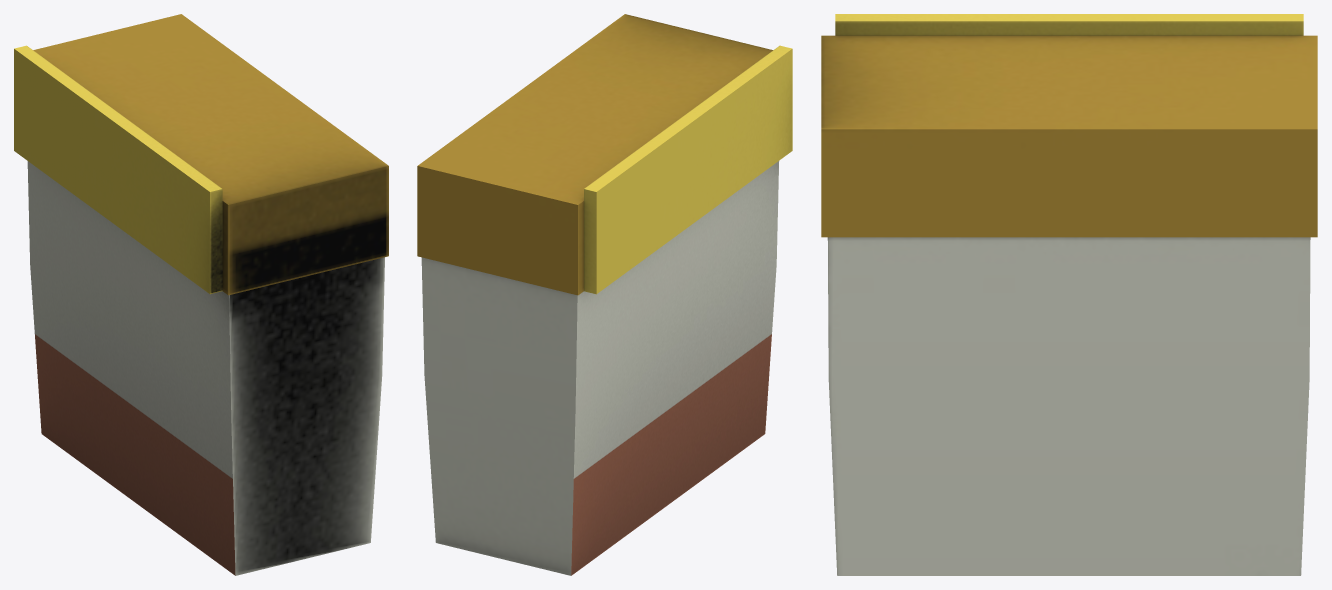
Rendered from FS_YellowStore.fbx.
The picture shows the model from 3 angles, left to right: view 1: azimuth 30°, elevation 25°; view 2: azimuth 150°, elevation 25°; view 3: azimuth 270°, elevation 25°; orthographic projection. The views are drawn at different scales.
Parts seen in each view (by area): view 1: shop8, roof8, sign9; view 2: shop8, roof8, sign9; view 3: shop8, roof8, sign9.
Boxes of the visible parts, <box> form: shop8: <box>27,161,384,575</box>; roof8: <box>33,14,388,295</box>; sign9: <box>14,45,222,294</box>; shop8: <box>421,161,779,575</box>; roof8: <box>417,14,772,295</box>; sign9: <box>584,45,792,294</box>; shop8: <box>827,237,1310,575</box>; roof8: <box>821,35,1317,237</box>; sign9: <box>835,14,1303,35</box>.
Size of the model in its own units: 60.27 by 130 by 125.
1 material, 1 textured.
